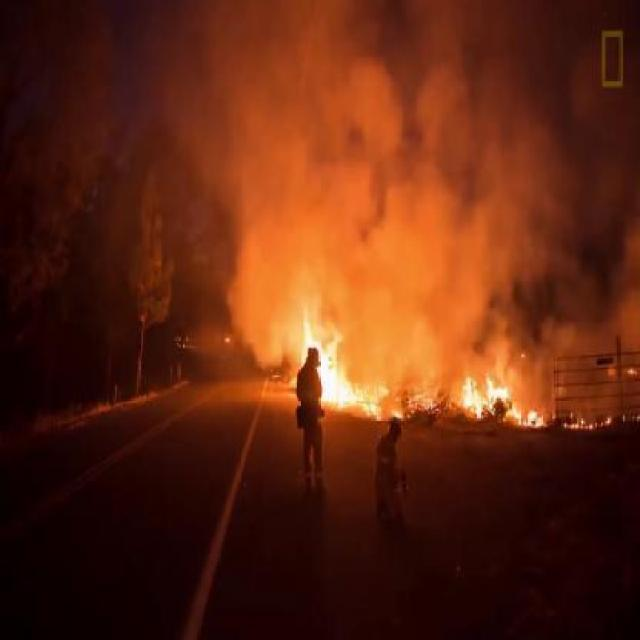Fire: (302, 312, 348, 408), (454, 368, 508, 419), (345, 380, 393, 422), (564, 412, 612, 432), (511, 405, 546, 430), (626, 366, 637, 376)
